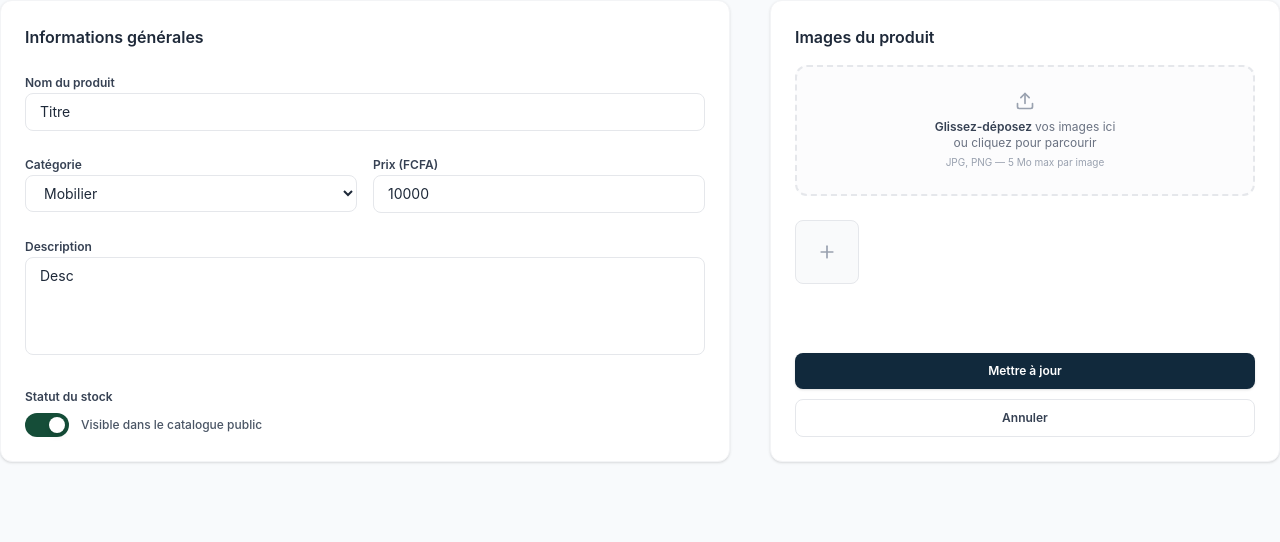
Test: AdminProductForm — édition › affiche une erreur si aucune modification
This screenshot has width=1280, height=542.
Click the button "Mettre à jour". click: click(1025, 371)
box: [795,353,1255,389]
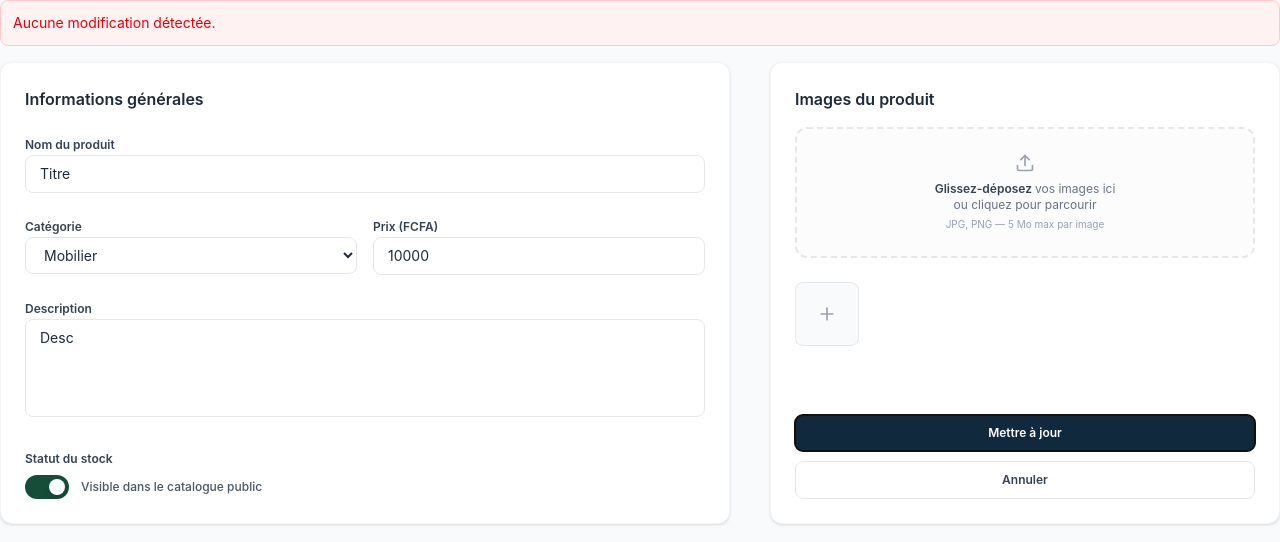
Expected: the message shows "Aucune modification", [13,14,216,31]
